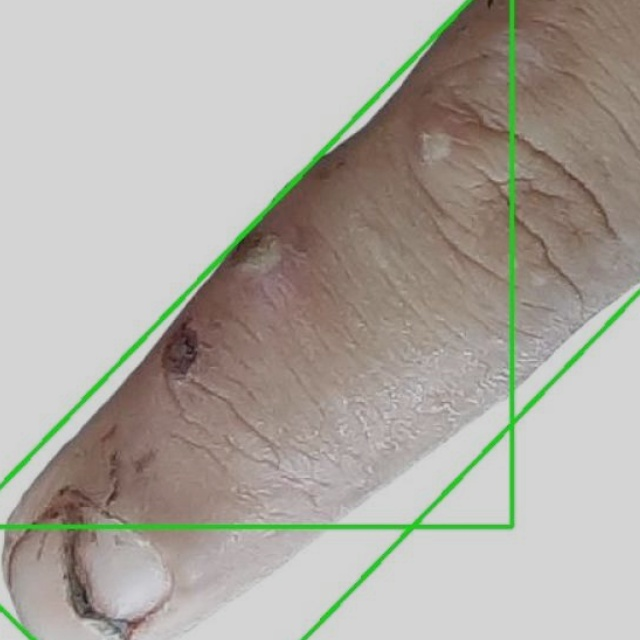Scabies: (0, 0, 639, 639), (0, 0, 511, 526)
